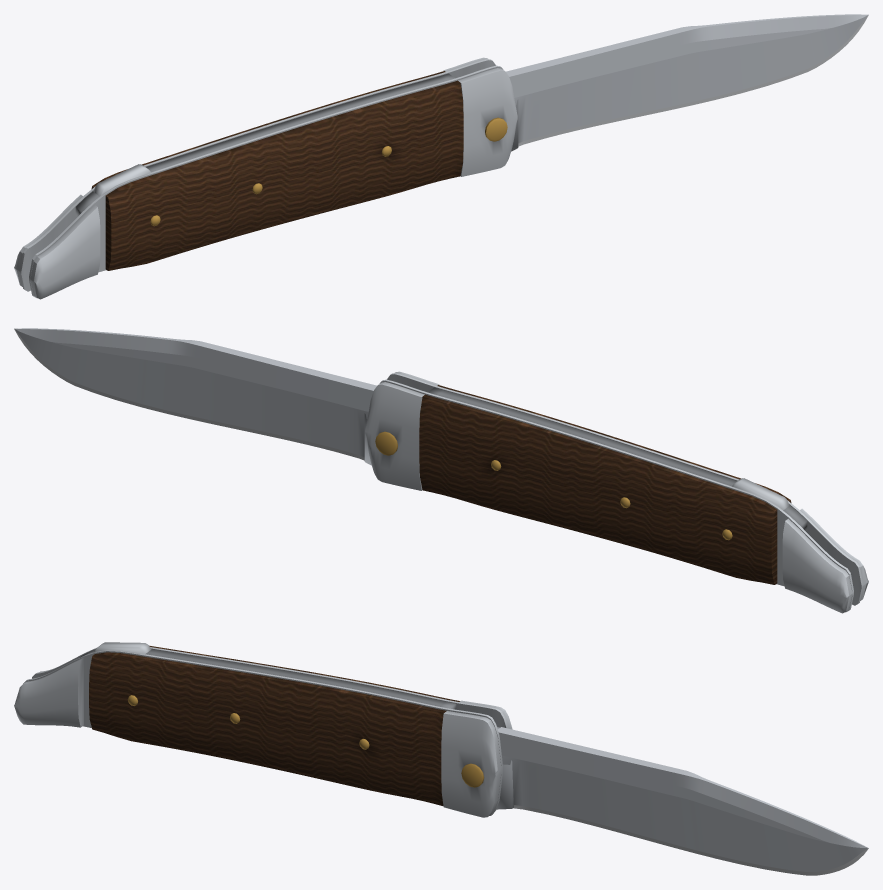
File: navaja.glb
The picture shows the model from 3 angles, top to bottom: view 1: azimuth 30°, elevation 25°; view 2: azimuth 150°, elevation 25°; view 3: azimuth 330°, elevation 25°; orthographic projection.
Parts seen in each view (by area): view 1: body, blade_pivot_mesh; view 2: body, blade_pivot_mesh; view 3: body, blade_pivot_mesh.
Part boxes in pixels (bbox=[...]): body: bbox=[14, 57, 517, 299]; blade_pivot_mesh: bbox=[506, 14, 868, 151]; body: bbox=[365, 371, 868, 613]; blade_pivot_mesh: bbox=[14, 328, 376, 465]; body: bbox=[14, 642, 512, 817]; blade_pivot_mesh: bbox=[497, 726, 868, 875].
Bounding box in the file's own units: 0.248 × 0.0335 × 0.013.
Materials: 5 (1 with a texture image).
